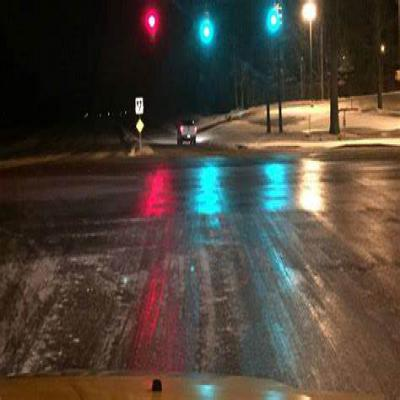iced-road: (0, 149, 400, 398)
